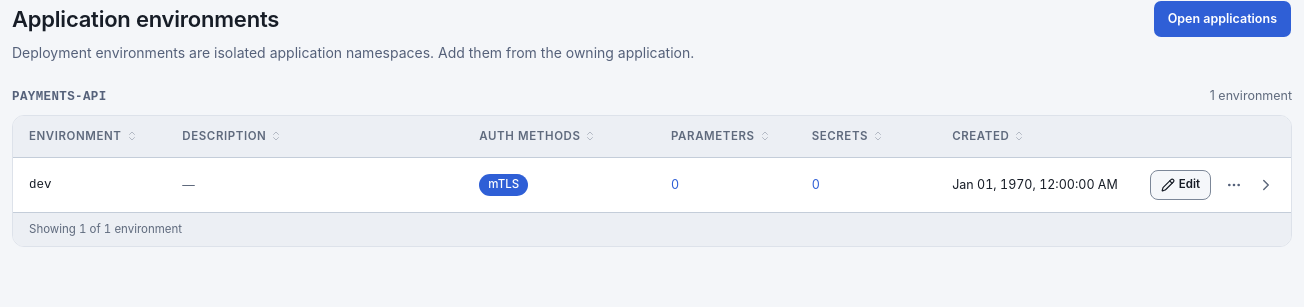
Test case: NamespacesPage › blocks deletion for bound identities and links to the place that resolves them
The image size is (1304, 307).
Click the button named "More for dev/payments-api" at (1234, 185), box [1219,170,1249,200]
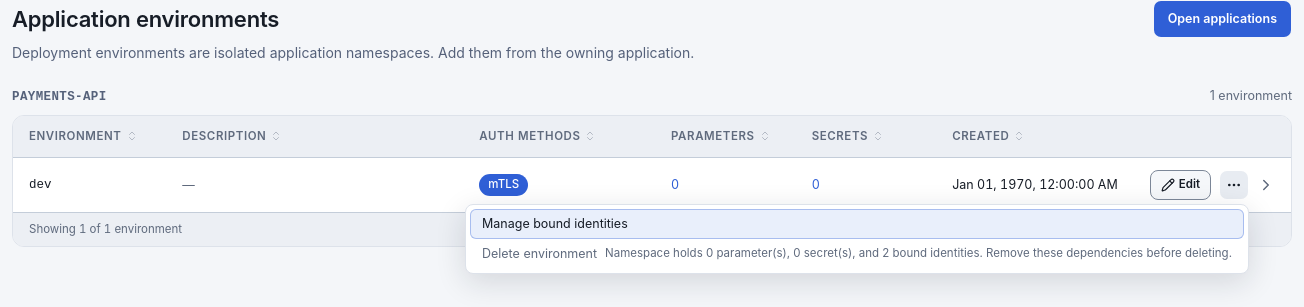
Check: the menu item "Delete environment" shows "2 bound identities", box [482,246,1232,261]
